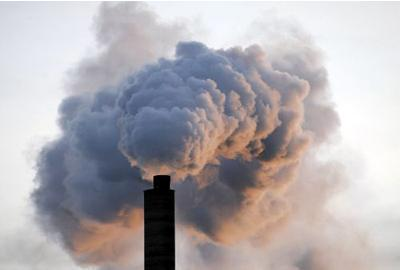dust: (102, 47, 319, 191)
